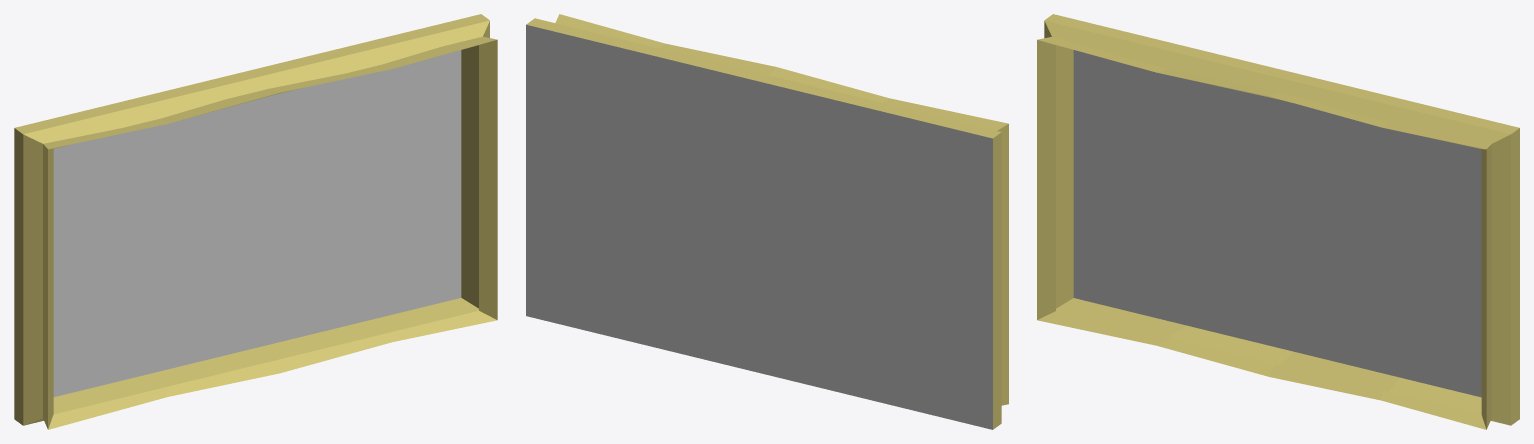
Rendered from pictureframe1.fbx.
3 renders of one model, left to right at view 1: azimuth 30°, elevation 25°; view 2: azimuth 150°, elevation 25°; view 3: azimuth 330°, elevation 25°, orthographic.
Parts seen in each view (by area): view 1: Cube; view 2: Cube; view 3: Cube.
Boxes of the visible parts, x1,y1,x2,y2 form: Cube: (14,14,497,429); Cube: (526,14,1008,429); Cube: (1037,14,1519,429).
Bounding box in the file's own units: 5.92 × 3.53 × 0.5453.
